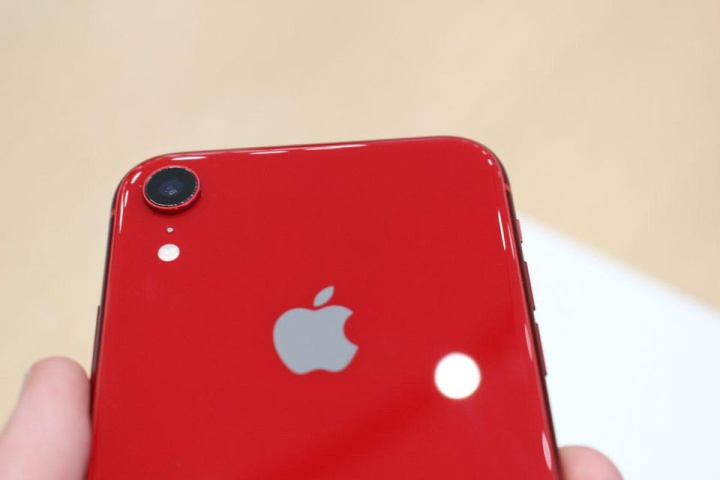apple: (253, 259, 376, 404)
